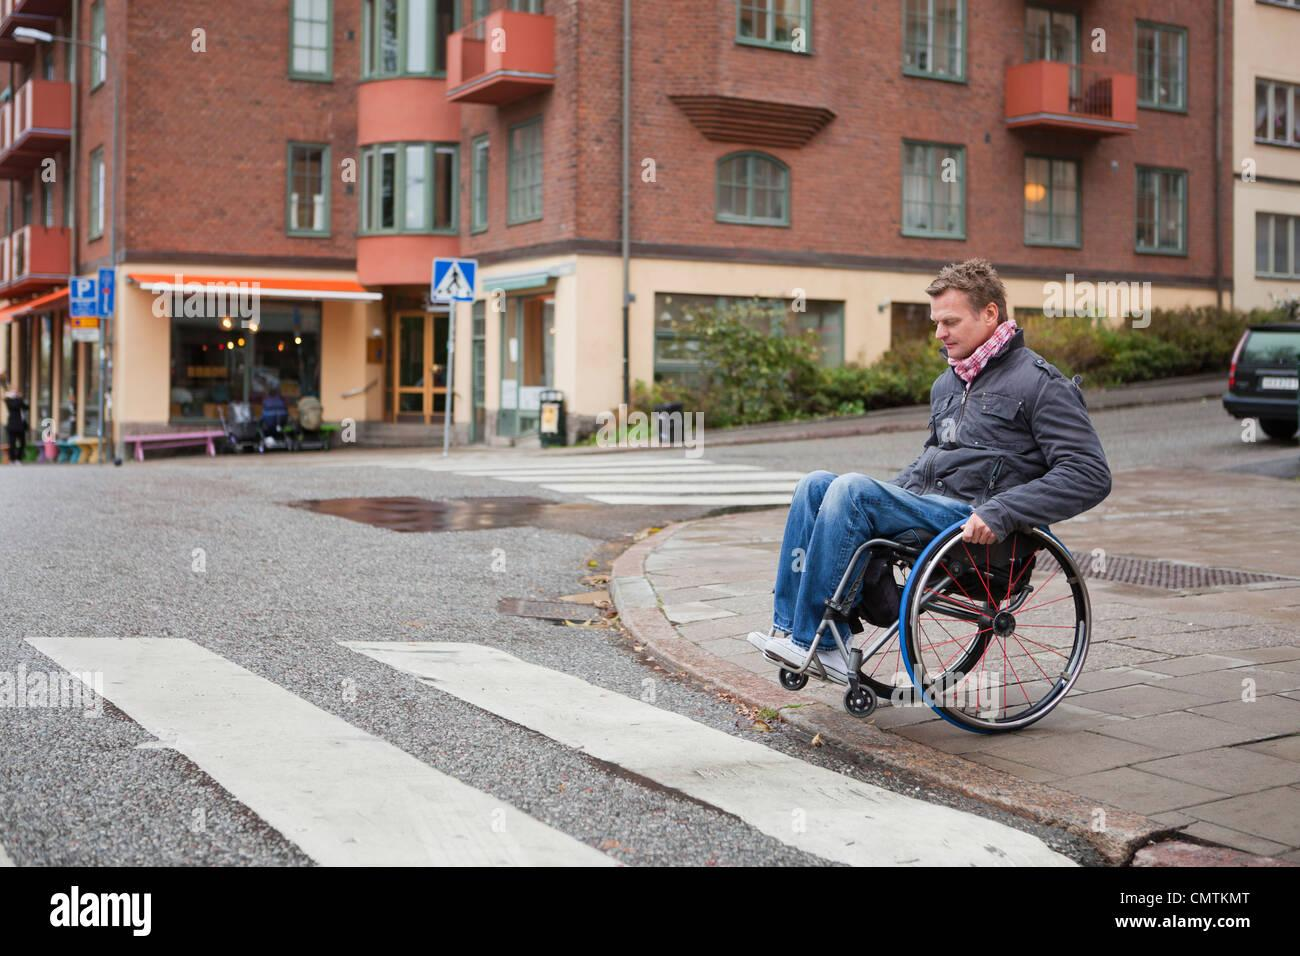wheelchair: (746, 256, 1113, 736)
